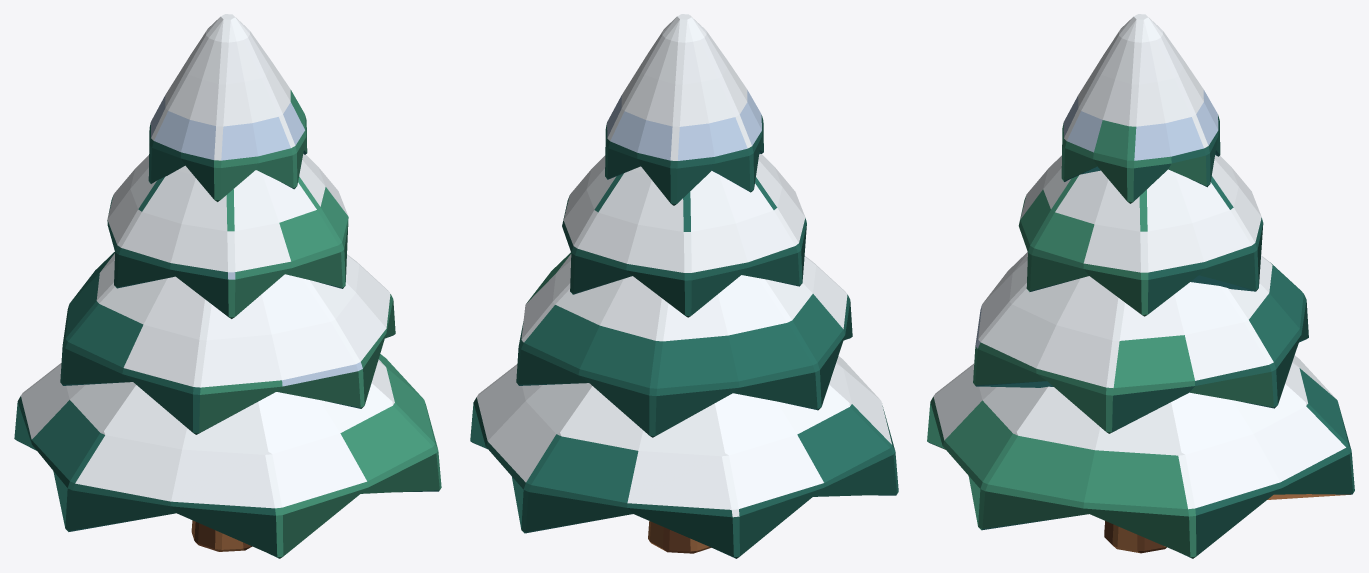
Rendered from IcePine.fbx.
3 renders of one model, left to right at view 1: azimuth 30°, elevation 25°; view 2: azimuth 150°, elevation 25°; view 3: azimuth 270°, elevation 25°, orthographic.
Parts seen in each view (by area): view 1: IcePine; view 2: IcePine; view 3: IcePine.
Part boxes in pixels (left/top/right/bottom): IcePine: left=14, top=14, right=441, bottom=558; IcePine: left=470, top=14, right=898, bottom=558; IcePine: left=927, top=14, right=1354, bottom=558.
Size of the model in its own units: 3.37 by 4.48 by 3.33.
Materials: 1 (1 with a texture image).
